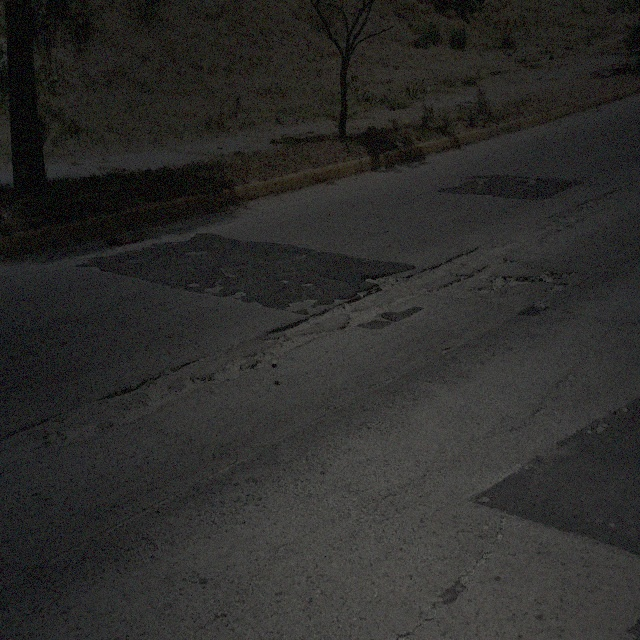pothole: (104, 356, 200, 437), (272, 306, 331, 363), (141, 361, 194, 417), (338, 284, 394, 337), (480, 269, 567, 298), (422, 247, 474, 286), (210, 350, 253, 392), (57, 412, 98, 452), (360, 272, 410, 291), (550, 212, 582, 231), (575, 194, 604, 214), (228, 288, 247, 299), (184, 248, 207, 257), (204, 285, 223, 295), (187, 281, 200, 292)
